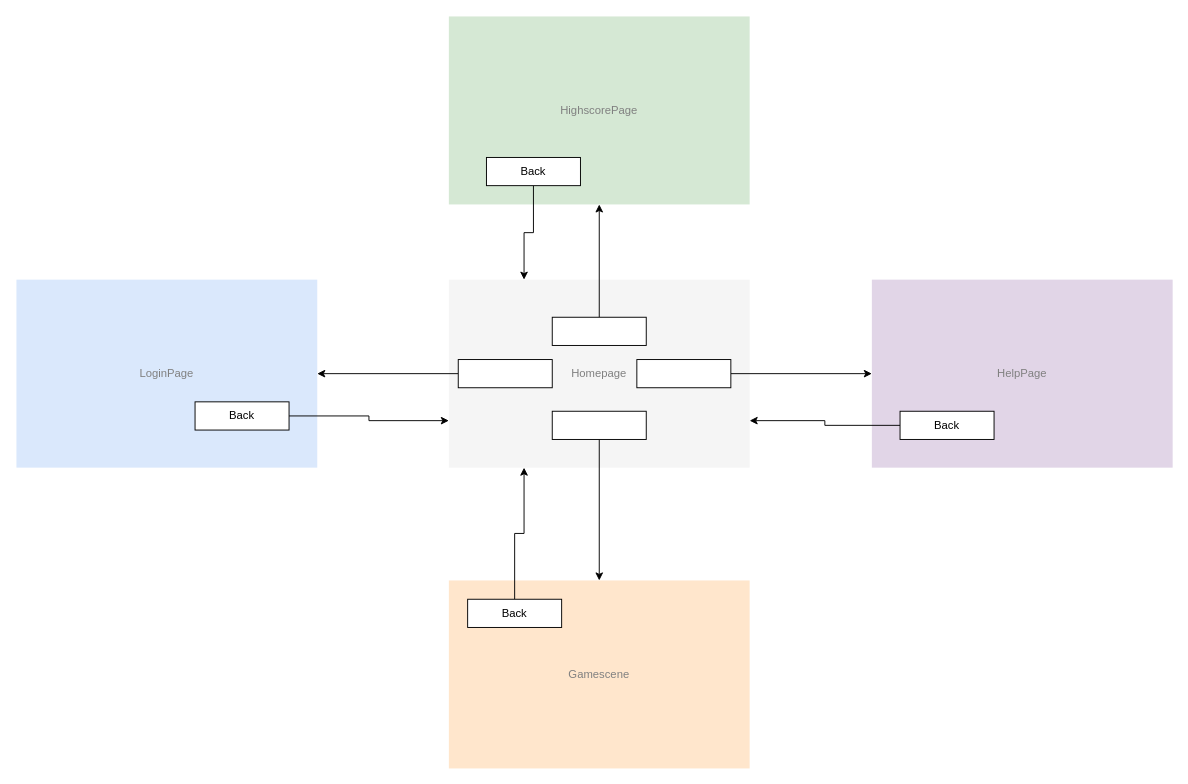
The diagram is 1188 pixels wide and 784 high, and some of its shapes have lost their labels. Each missing label, with the centre of its shape:
Help: [683,373]
Highscores: [598,330]
Login: [504,373]
Play: [598,424]
